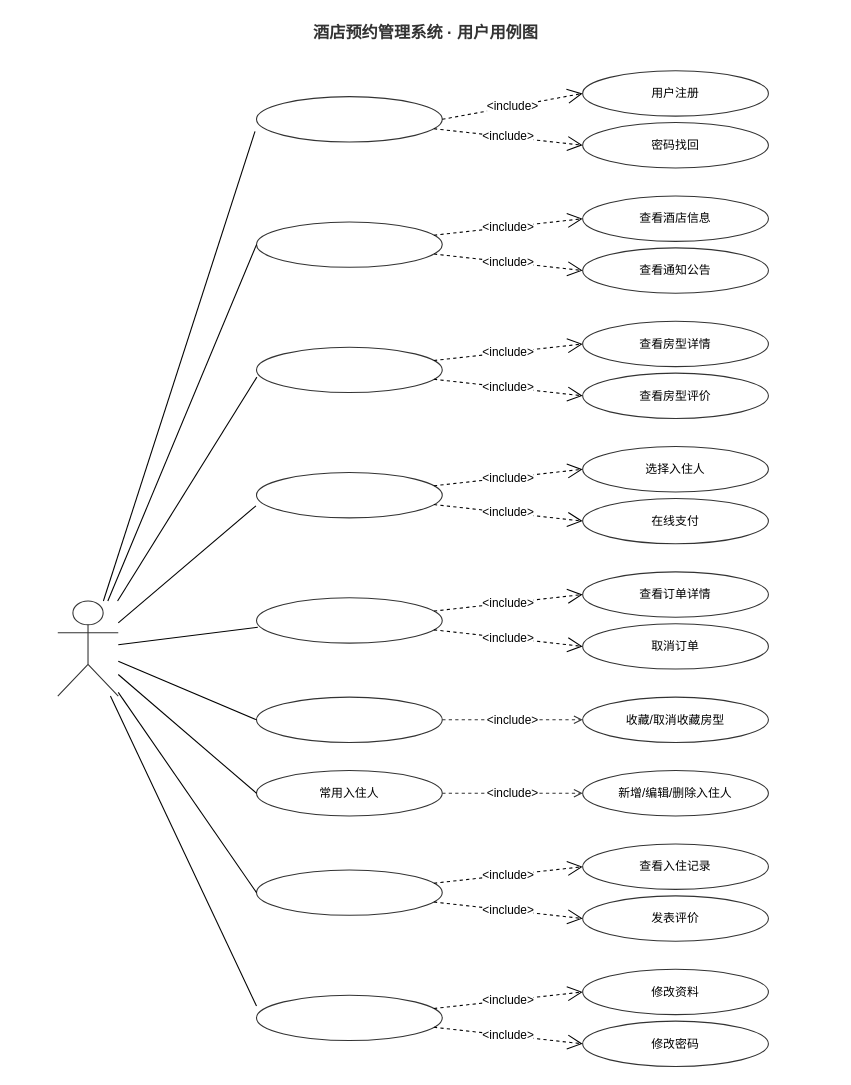
The diagram is 851 pixels wide and 1085 high, and some of its shapes have lost their labels. The shapes that lost their labels are listed below. From the top down, each one's box as (x1, y1, x2, y2) in pixels, then its label:
(255, 96, 442, 142): 登录注册
(255, 221, 442, 267): 浏览酒店
(255, 346, 442, 393): 搜索房型
(255, 471, 442, 518): 在线预订
(255, 597, 442, 643): 订单管理
(57, 600, 118, 696): 普通用户
(255, 696, 442, 742): 我的收藏
(255, 869, 442, 915): 入住与评价
(255, 994, 442, 1041): 个人中心
